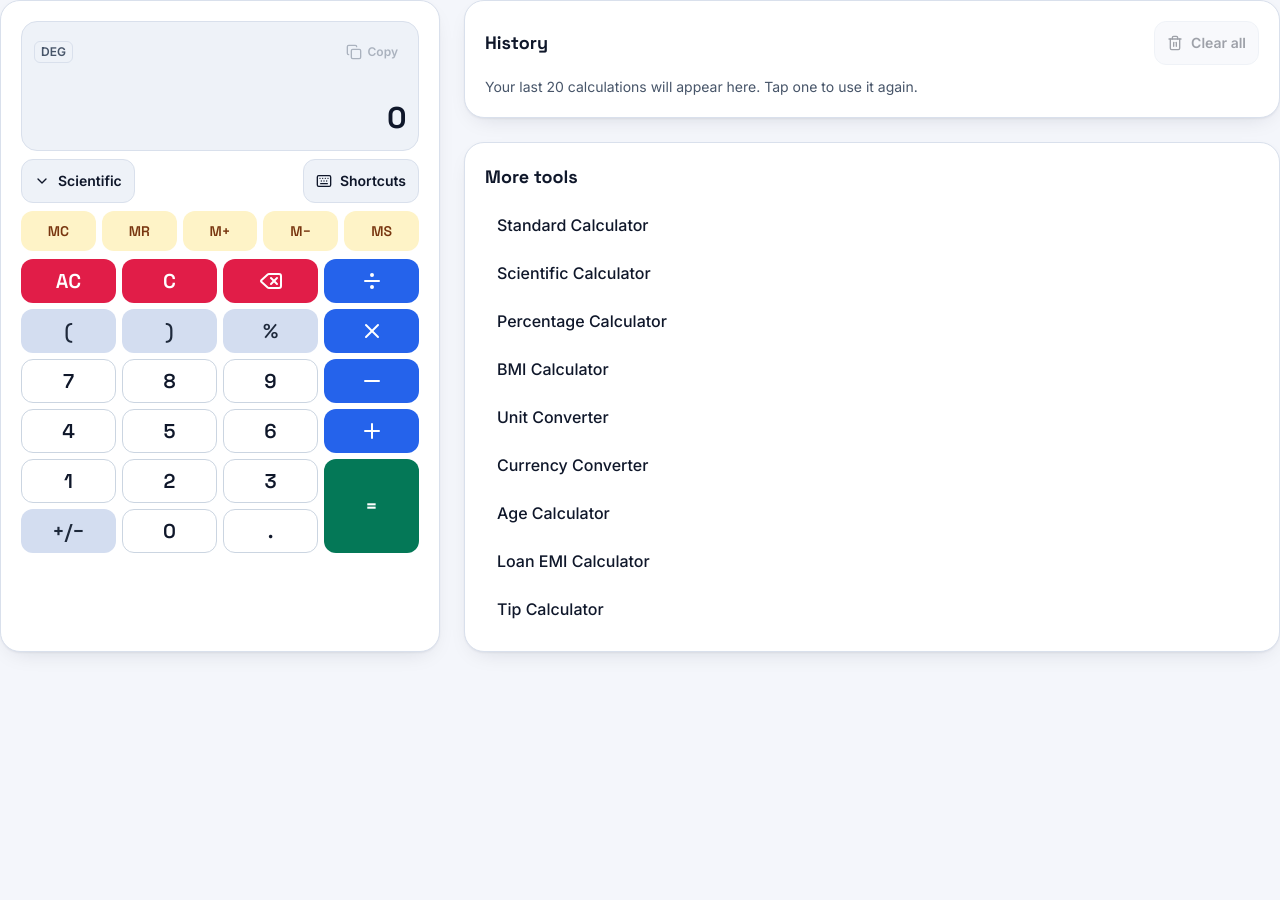
Test: Calculator component › shows a live preview before pressing equals
Click the button "2".
click(170, 481)  # box [122,459,217,503]
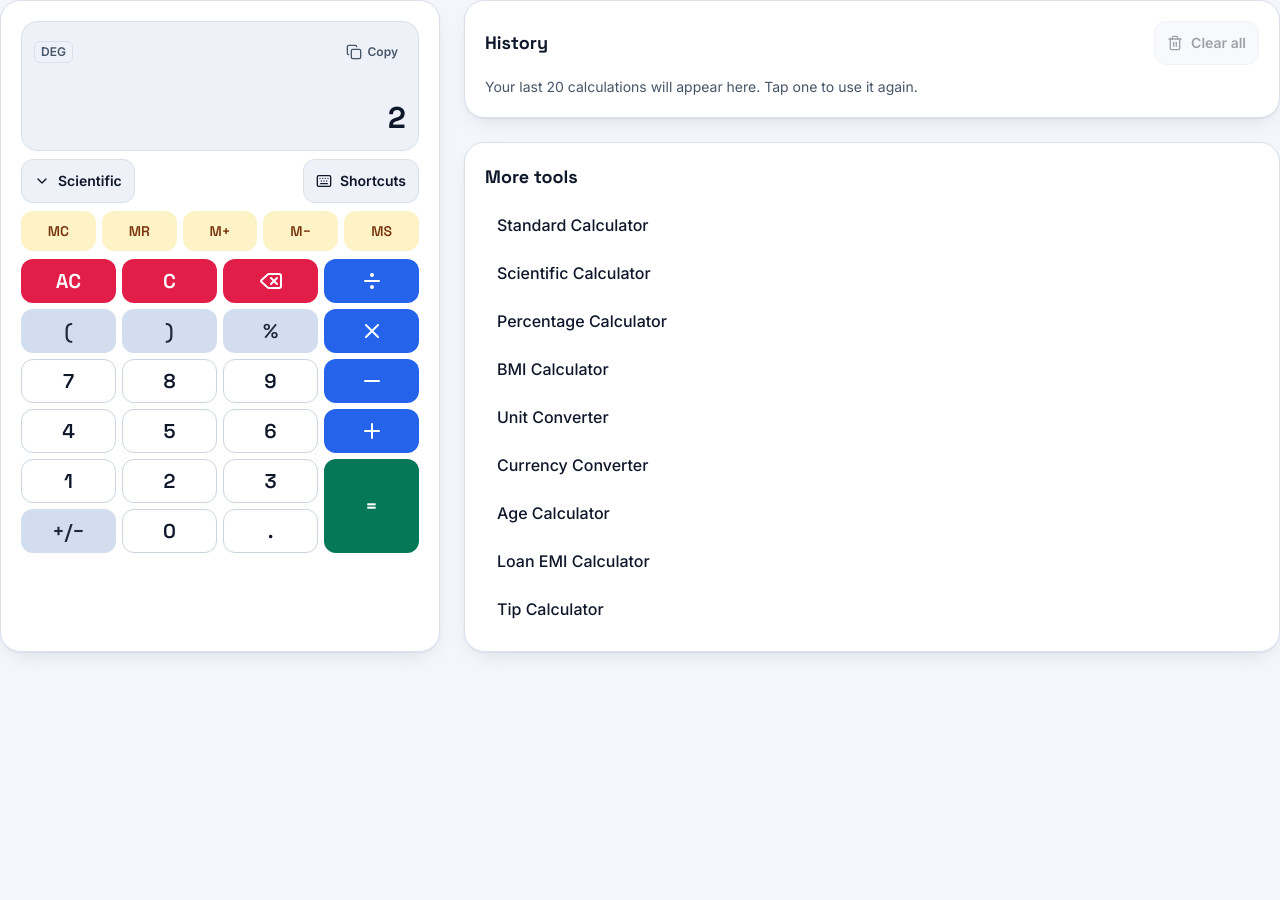
Click the button named "Multiply".
click(372, 331)  # box [324,309,419,353]
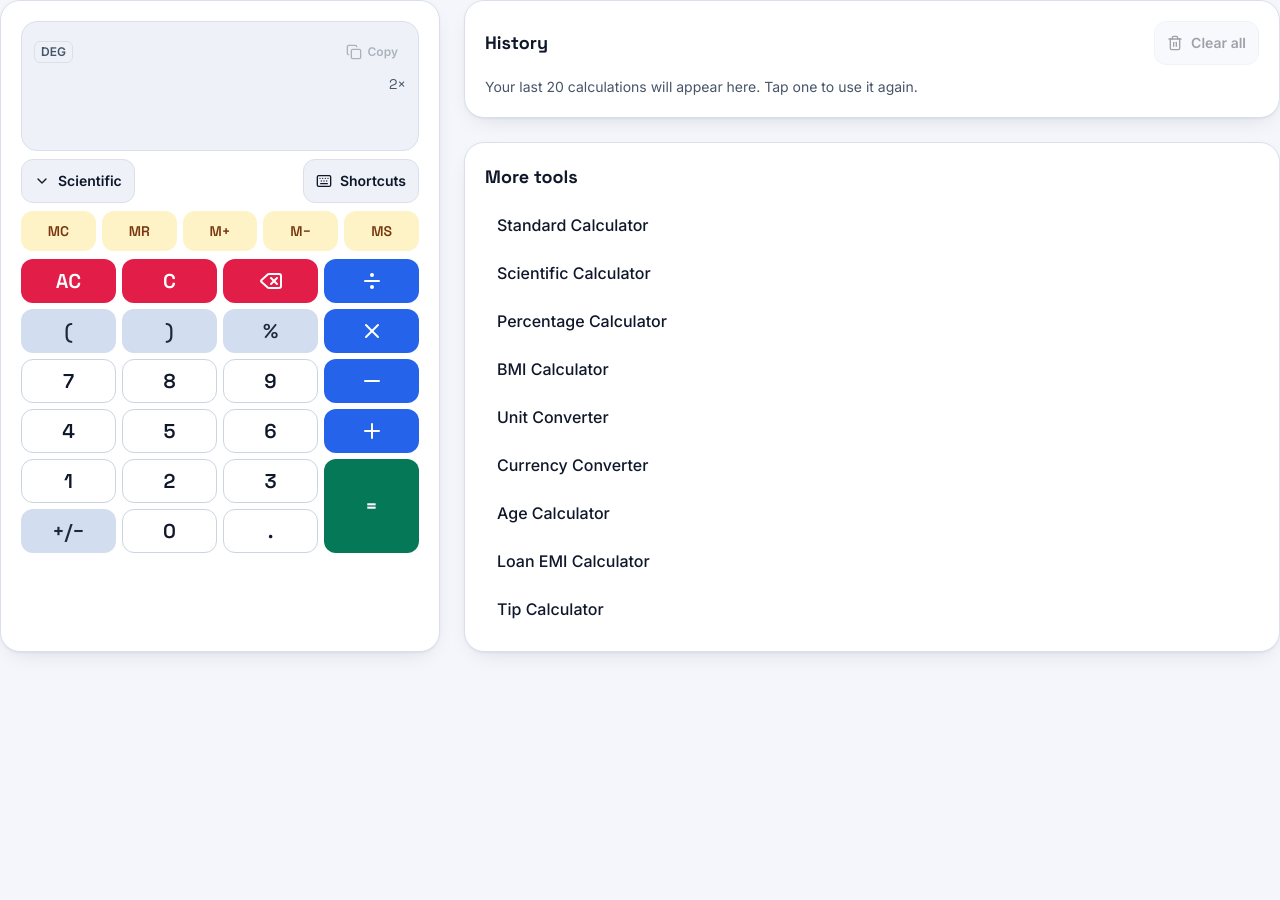
Click the button "6".
click(270, 431)  # box [223,409,318,453]
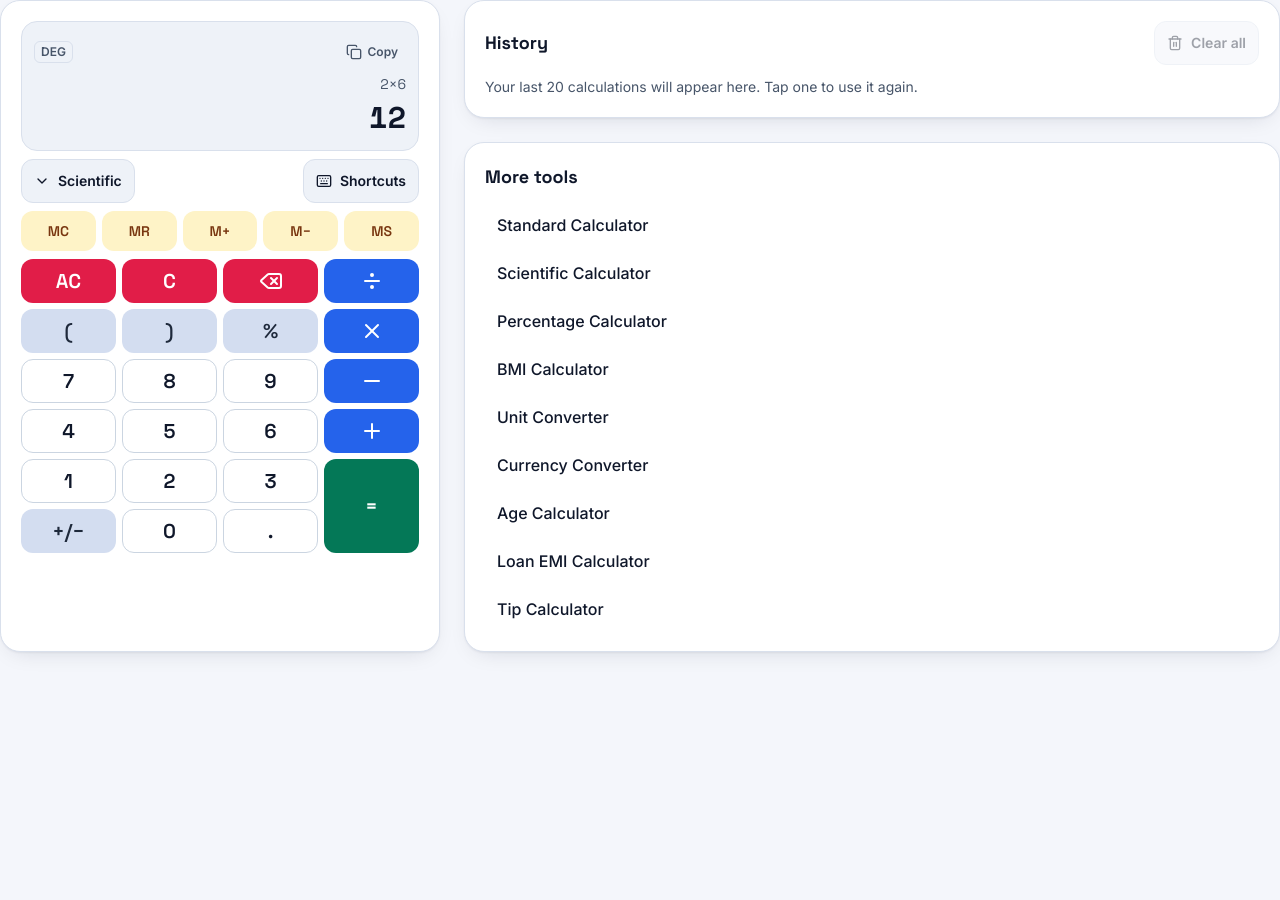
Expected: the text "12" is shown, [369,98,406,137]
